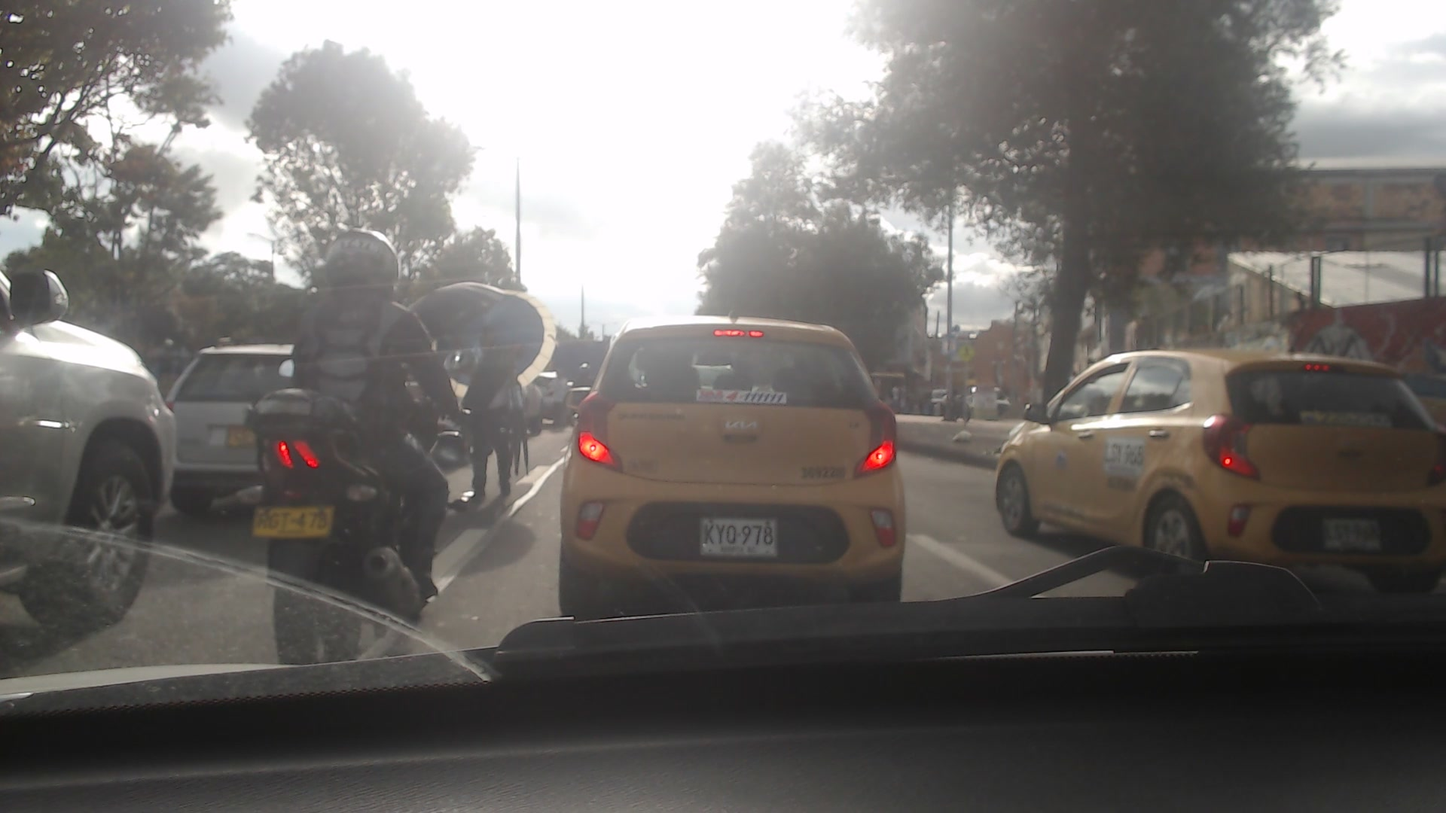car: (1000, 349, 1445, 571)
